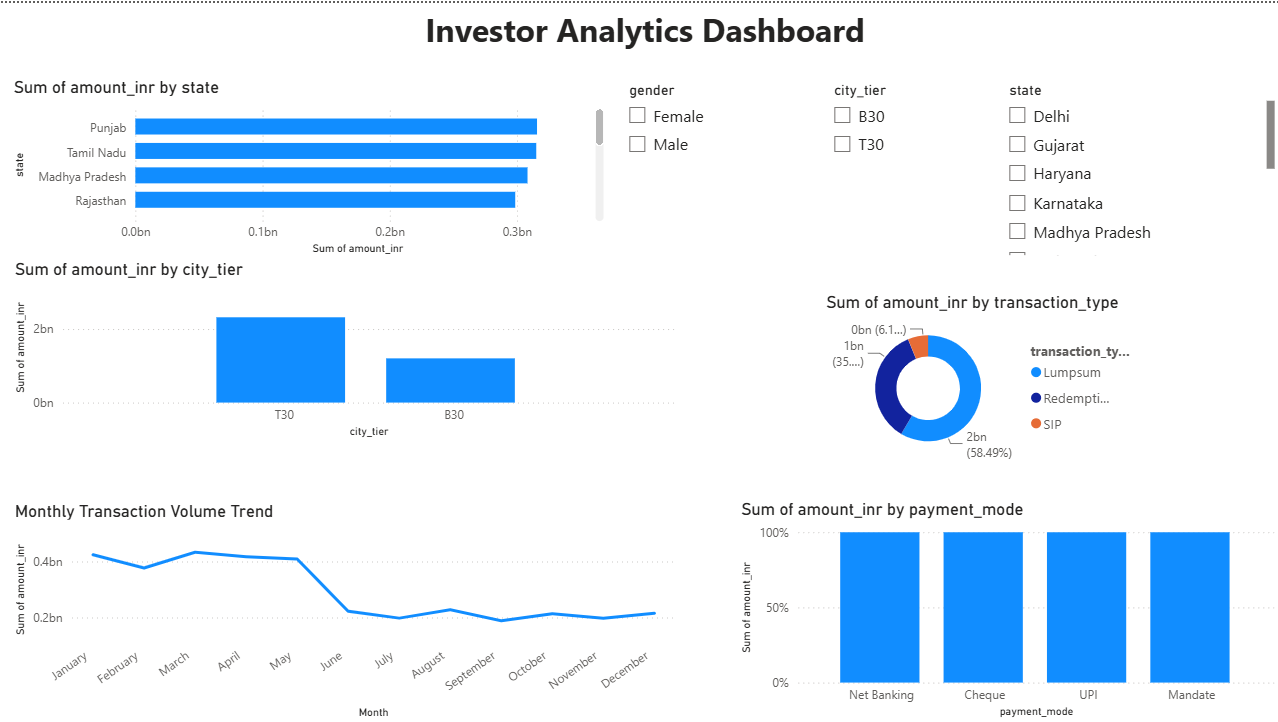

What the dashboard file says about the page in this screenshot:
{"tool":"powerbi","page":{"name":"Investor Analytics","canvas":[1280,720],"ordinal":2},"visuals":[{"type":"textbox","box":[10,0,1270,73.3],"z":0},{"type":"clusteredBarChart","fields":{"Category":["transactions_clean.state"],"Y":["Sum(transactions_clean.amount_inr)"]},"box":[8.3,73.3,600,183.3],"z":1000},{"type":"columnChart","fields":{"Category":["transactions_clean.city_tier"],"Y":["Sum(transactions_clean.amount_inr)"]},"box":[10,256.7,670,183.3],"z":2000},{"type":"hundredPercentStackedColumnChart","fields":{"Category":["transactions_clean.payment_mode"],"Y":["Sum(transactions_clean.amount_inr)"]},"box":[736.7,496.7,543.3,223.3],"z":3000},{"type":"slicer","fields":{"Values":["transactions_clean.gender"]},"box":[616.7,73.3,205,183.3],"z":4000},{"type":"slicer","fields":{"Values":["transactions_clean.state"]},"box":[996.7,73.3,283.3,183.3],"z":5000},{"type":"slicer","fields":{"Values":["transactions_clean.city_tier"]},"box":[821.7,73.3,186.7,166.7],"z":6000},{"type":"lineChart","title":"Monthly Transaction Volume Trend","fields":{"Y":["Sum(transactions_clean.amount_inr)"],"Category":["transactions_clean.transaction_date.Variation.Date Hierarchy.Month"]},"box":[10,497,670,223],"z":7000},{"type":"donutChart","fields":{"Category":["transactions_clean.transaction_type"],"Y":["Sum(transactions_clean.amount_inr)"]},"box":[821.4,288.6,317.1,174.3],"z":8000}]}

Visuals, with their boxes in screenshot pixels (x1, y1, x2, y2), scaled from the page's 1280x720 canvas onto the 1278x722 screenshot:
textbox: [left=10, top=0, right=1277, bottom=74]
clusteredBarChart - transactions_clean.state x Sum(transactions_clean.amount_inr): [left=8, top=74, right=607, bottom=257]
columnChart - transactions_clean.city_tier x Sum(transactions_clean.amount_inr): [left=10, top=257, right=679, bottom=441]
hundredPercentStackedColumnChart - transactions_clean.payment_mode x Sum(transactions_clean.amount_inr): [left=736, top=498, right=1277, bottom=721]
slicer - transactions_clean.gender: [left=616, top=74, right=820, bottom=257]
slicer - transactions_clean.state: [left=995, top=74, right=1277, bottom=257]
slicer - transactions_clean.city_tier: [left=820, top=74, right=1007, bottom=241]
"Monthly Transaction Volume Trend" lineChart: [left=10, top=498, right=679, bottom=721]
donutChart - transactions_clean.transaction_type x Sum(transactions_clean.amount_inr): [left=820, top=289, right=1137, bottom=464]
